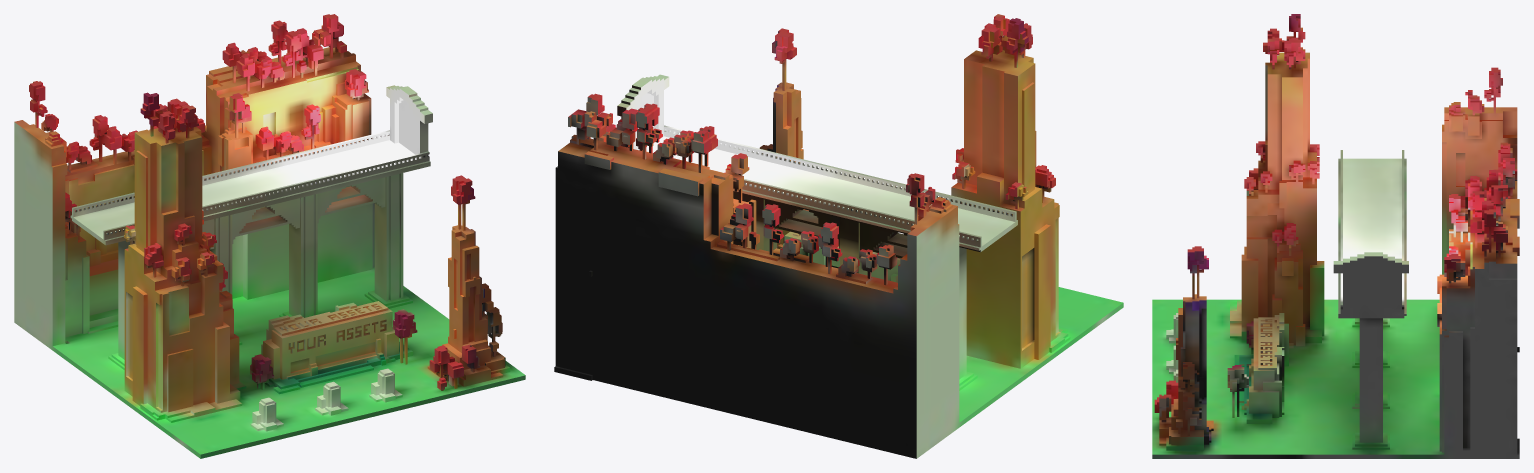
Rendered from user_portal_com.glb.
3 renders of one model, left to right at view 1: azimuth 30°, elevation 25°; view 2: azimuth 150°, elevation 25°; view 3: azimuth 270°, elevation 25°, orthographic. The views are drawn at different scales.
Parts seen in each view (by area): view 1: bridge_portal; view 2: bridge_portal; view 3: bridge_portal.
Part boxes in pixels (left/top/right/bottom): bridge_portal: left=14, top=14, right=525, bottom=458; bridge_portal: left=554, top=14, right=1123, bottom=458; bridge_portal: left=1152, top=14, right=1519, bottom=458.
Size of the model in its own units: 156 by 140 by 156.
Materials: 1 (1 with a texture image).
